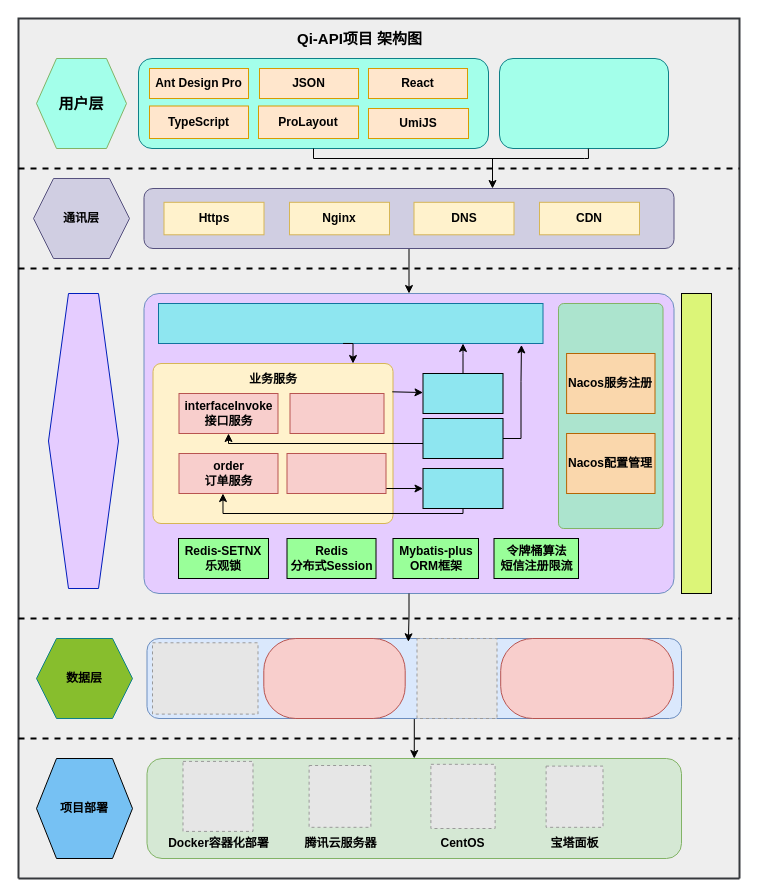
Image size: 758x896. Some labels were removed from this diagram. Grey dashed boxes stand in for pictures. The shapes that lost their labels are listed below. From the top down, each one's box as (x1, y1, x2, y2) in pixels, then its label:
(498, 58, 668, 148): Qi-API-Client-SDK-Starter
(158, 302, 543, 344): Spring Cloud Gateway 服务层网关
(289, 392, 384, 434): core 核心业务
(422, 372, 503, 414): Dubbo RPC 远程调用
(558, 302, 663, 528): 治理&配置
(48, 292, 118, 588): 服务层
(422, 418, 503, 458): Sentinel 流量控制
(680, 292, 712, 594): 日 志 处 理
(286, 452, 386, 494): thirdPerty 第三方服务
(422, 468, 503, 508): RocketMQ 异步化
(263, 638, 405, 718): 关系型数据库 MySQL 数据持久化存储
(500, 638, 673, 718): No-SQL数据库 Redis 热点缓存、分布式Session等
